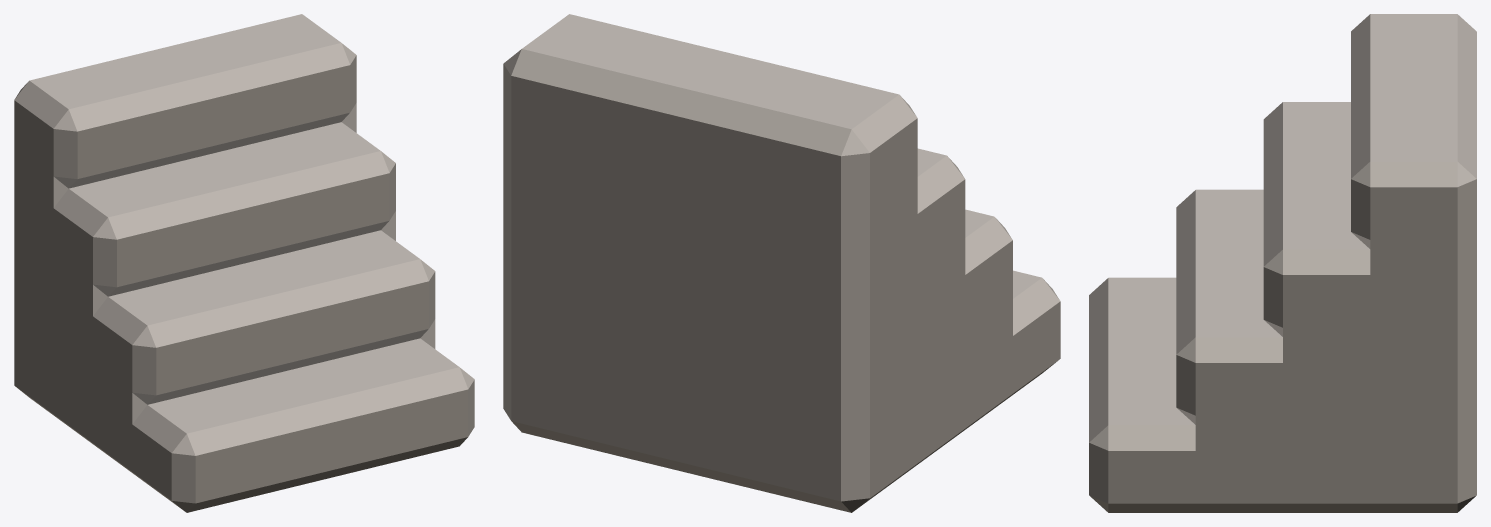
File: m_kub_stone_stairs_block.FBX
3 views of the same model, side by side, from view 1: azimuth 30°, elevation 25°; view 2: azimuth 150°, elevation 25°; view 3: azimuth 270°, elevation 25° (orthographic). The views are drawn at different scales.
Parts seen in each view (by area): view 1: m_kub_stone_stairs_block; view 2: m_kub_stone_stairs_block; view 3: m_kub_stone_stairs_block.
Boxes of the visible parts, left/top/right/bottom form: m_kub_stone_stairs_block: left=14, top=14, right=474, bottom=512; m_kub_stone_stairs_block: left=503, top=14, right=1060, bottom=512; m_kub_stone_stairs_block: left=1089, top=14, right=1476, bottom=512.
Bounding box in the file's own units: 2 × 2 × 2.
